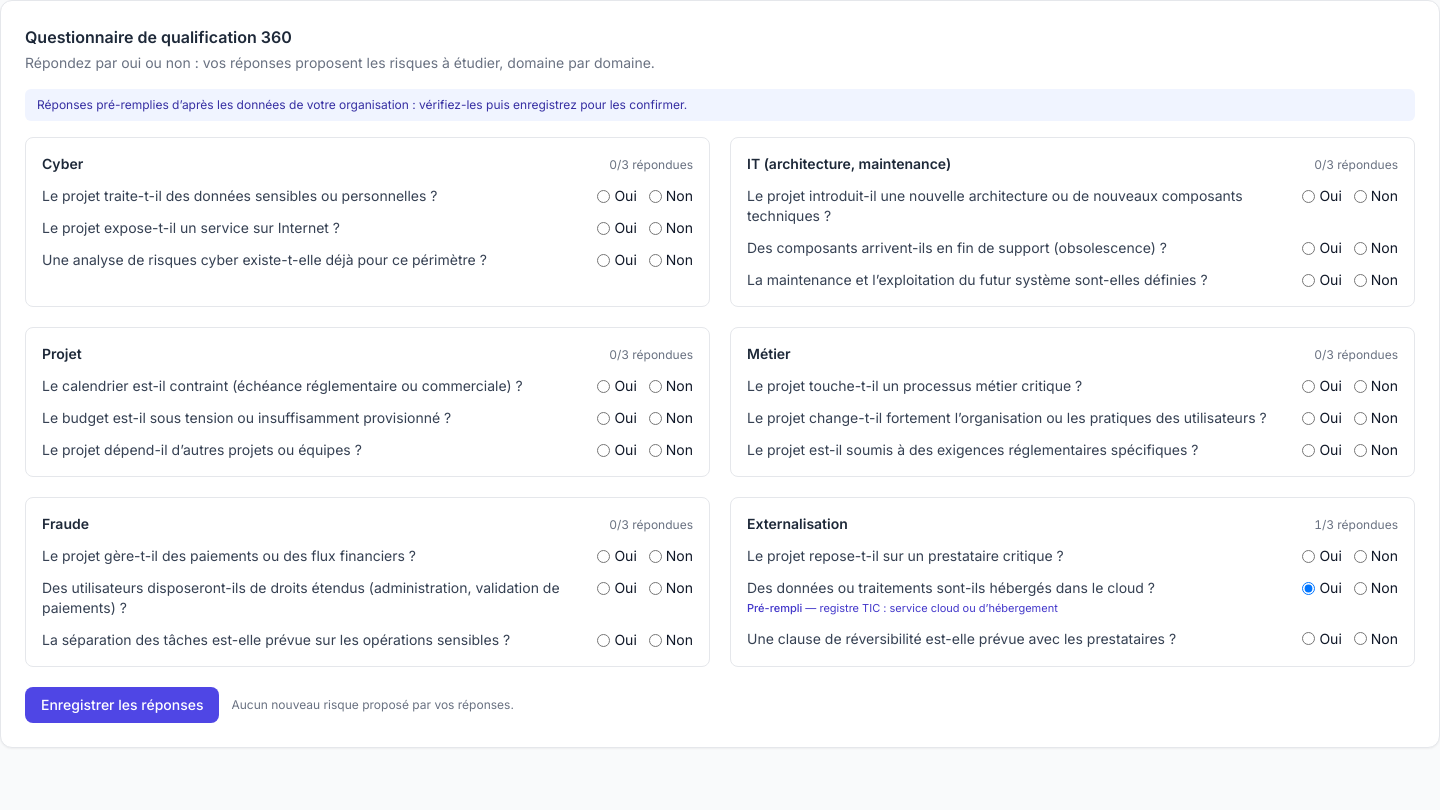
Test case: Questionnaire360 — pré-remplissage › affiche la source des réponses pré-remplies, puis la retire une fois confirmées
Expected: the text "Réponses pré-remplies d’après les données de votre organisation" is shown, [37,97,687,112]
Expected: the text "Pré-rempli — registre TIC : service cloud ou d’hébergement" is shown, [747,601,1058,615]
Click the button "Enregistrer les réponses" at {"x": 122, "y": 705}, box [25,687,220,723]
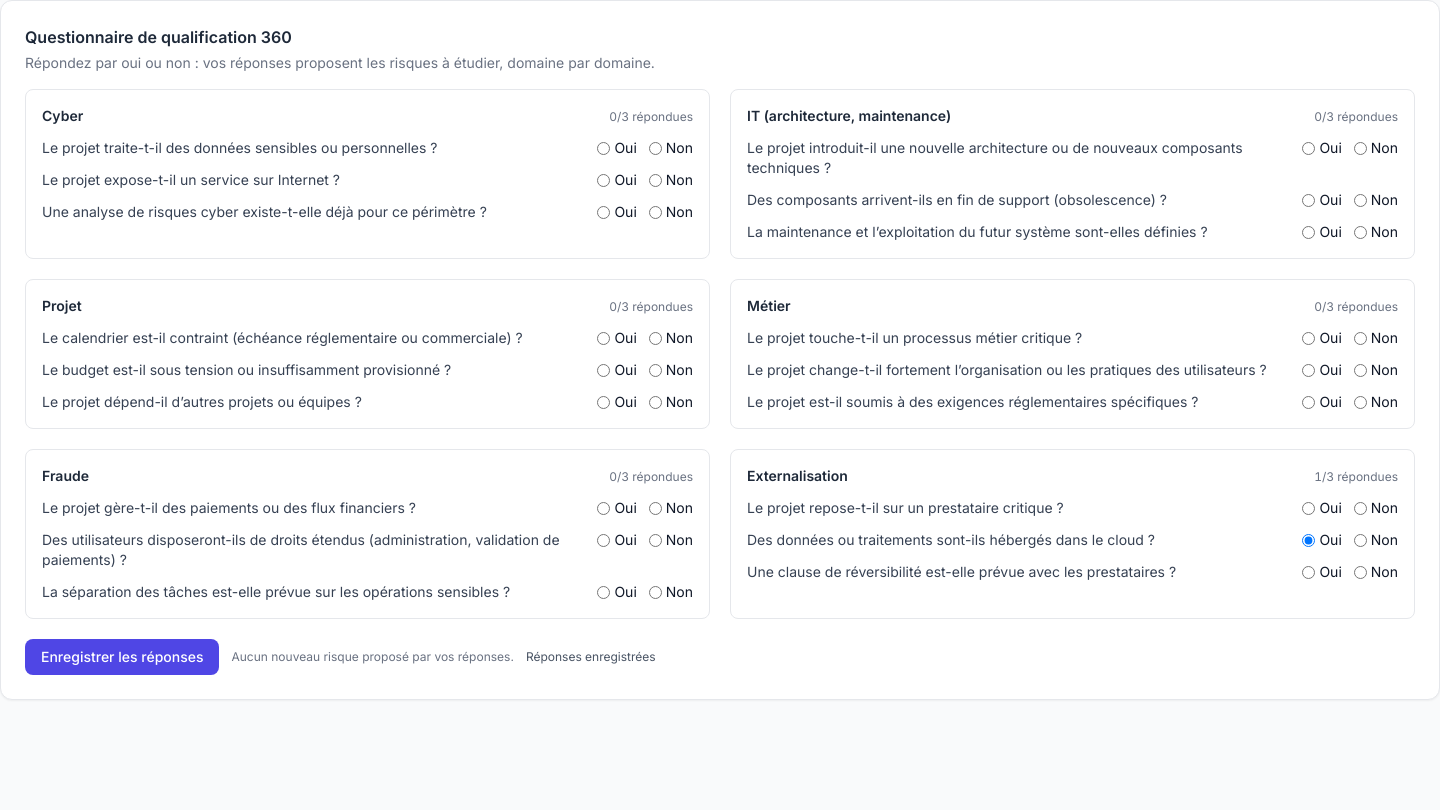
Result: the text "registre TIC : service cloud" is gone
